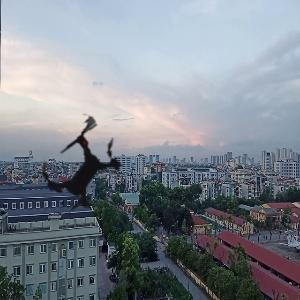drone: (8, 95, 155, 242)
